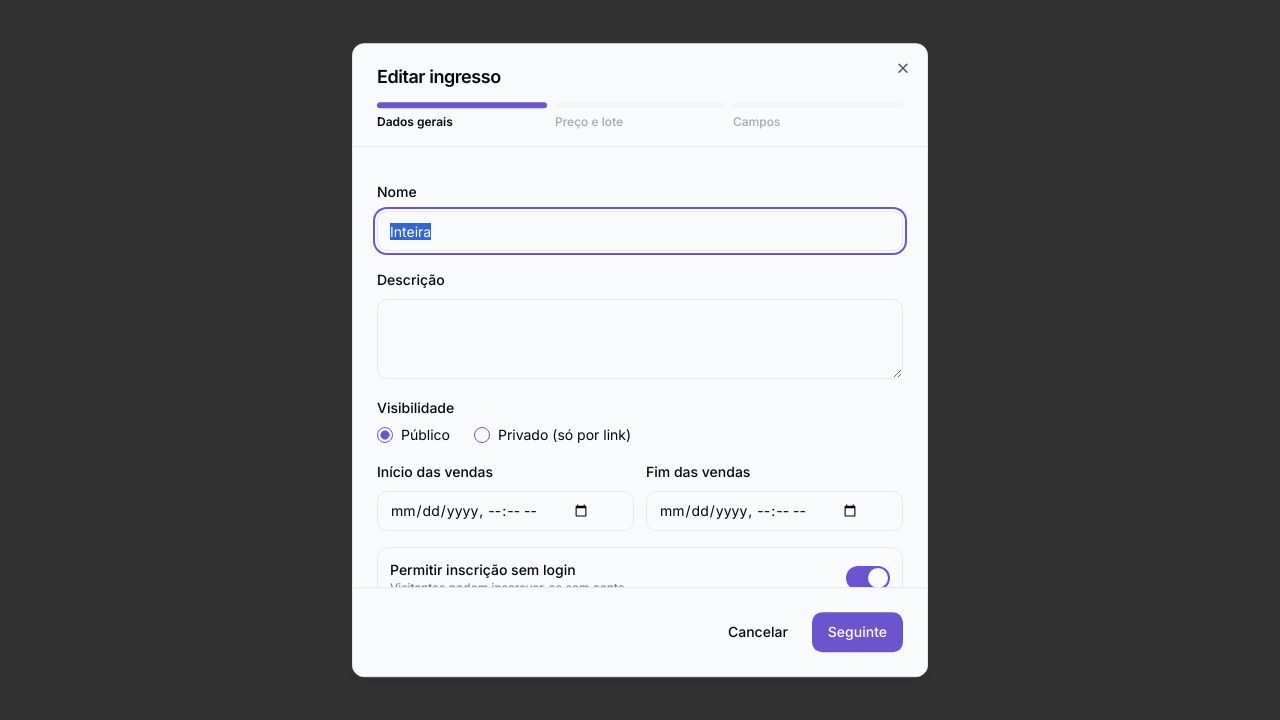
TicketTypeWizardDialog › falha ao carregar os campos mostra erro no passo 3 e não deixa guardar
Later steps or results of the test are not shown.
Expected: the field labelled "Nome" holds "Inteira", [377,211,903,251]
Click the button "Seguinte".
click(857, 632)  # box [812,612,903,652]
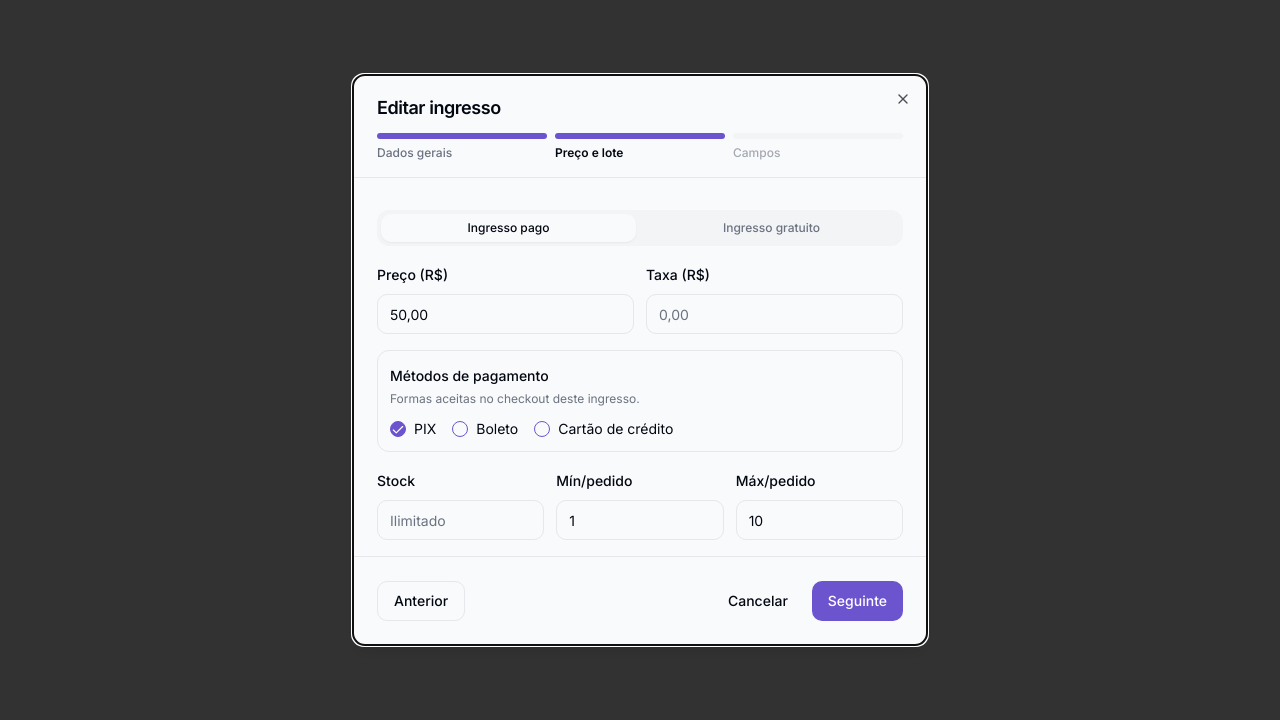
Click the button "Seguinte".
click(857, 601)  # box [812,581,903,621]
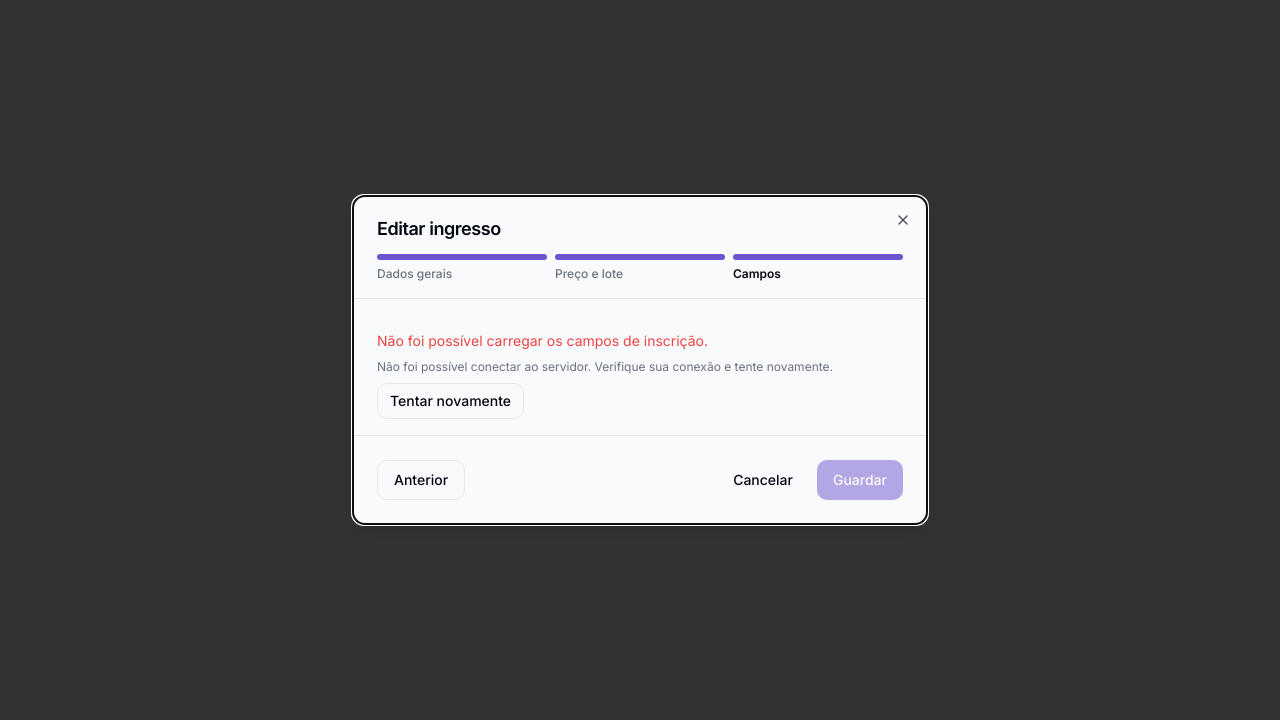
Now the text "Não foi possível carregar os campos de inscrição." is shown, box [377,332,708,349]
Now the button "Guardar" is disabled, box [817,460,903,500]
